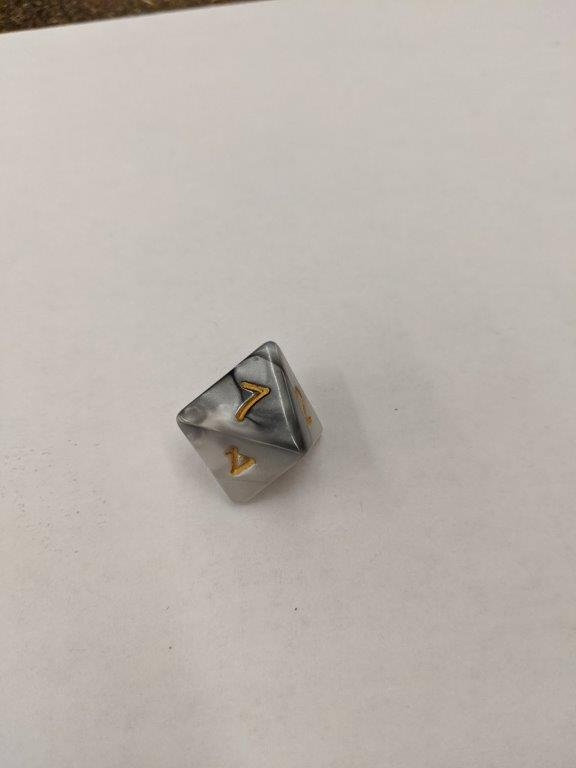d8-7: (175, 342, 323, 506)
